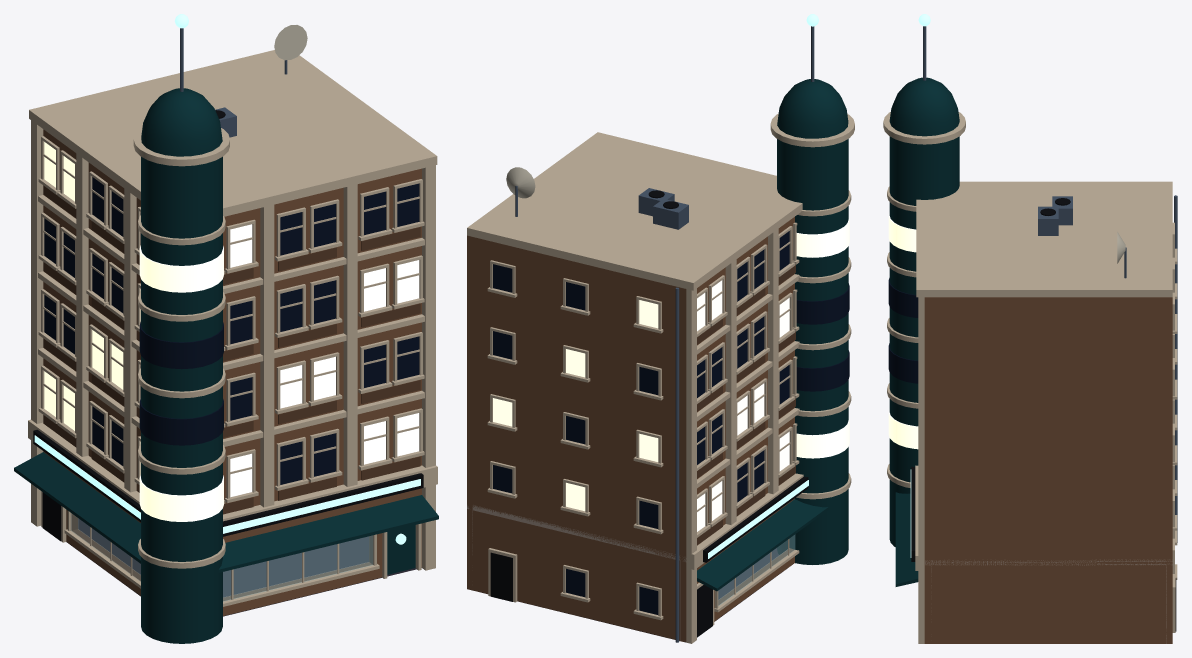
The model's file is corner_turret.glb.
The picture shows the model from 3 angles, left to right: view 1: azimuth 30°, elevation 25°; view 2: azimuth 150°, elevation 25°; view 3: azimuth 270°, elevation 25°; orthographic projection. The views are drawn at different scales.
Parts seen in each view (by area): view 1: corner_turret, door_shop_leaf; view 2: corner_turret; view 3: corner_turret.
Boxes of the visible parts, x1=… form: corner_turret: x1=14, y1=14, x2=438, y2=643; door_shop_leaf: x1=387, y1=525, x2=415, y2=574; corner_turret: x1=467, y1=14, x2=854, y2=643; corner_turret: x1=883, y1=14, x2=1177, y2=643.
Bounding box in the file's own units: 14 × 28.01 × 14.24.
